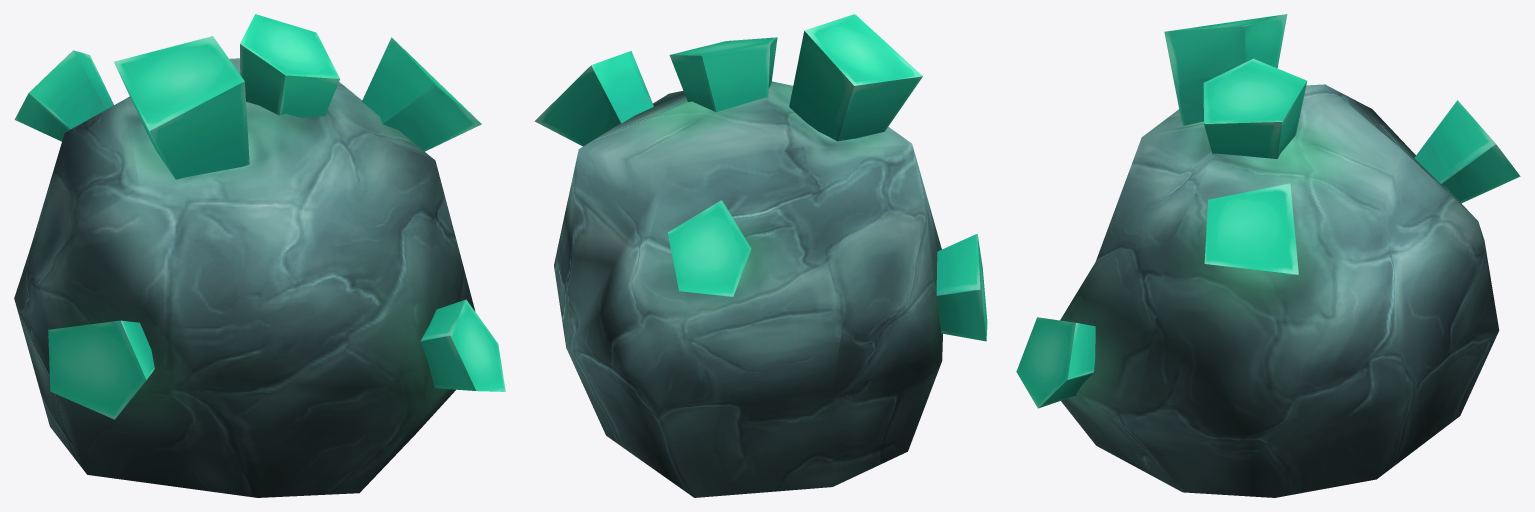
File: ore_small_adamantite.fbx
3 renders of one model, left to right at view 1: azimuth 30°, elevation 25°; view 2: azimuth 150°, elevation 25°; view 3: azimuth 270°, elevation 25°, orthographic. The views are drawn at different scales.
Parts seen in each view (by area): view 1: ore_small_adamantite:Mesh; view 2: ore_small_adamantite:Mesh; view 3: ore_small_adamantite:Mesh.
Boxes of the visible parts, left/top/right/bottom form: ore_small_adamantite:Mesh: left=14, top=14, right=505, bottom=497; ore_small_adamantite:Mesh: left=534, top=14, right=987, bottom=497; ore_small_adamantite:Mesh: left=1016, top=14, right=1520, bottom=497.
Size of the model in its own units: 3.71 by 3.36 by 3.96.
